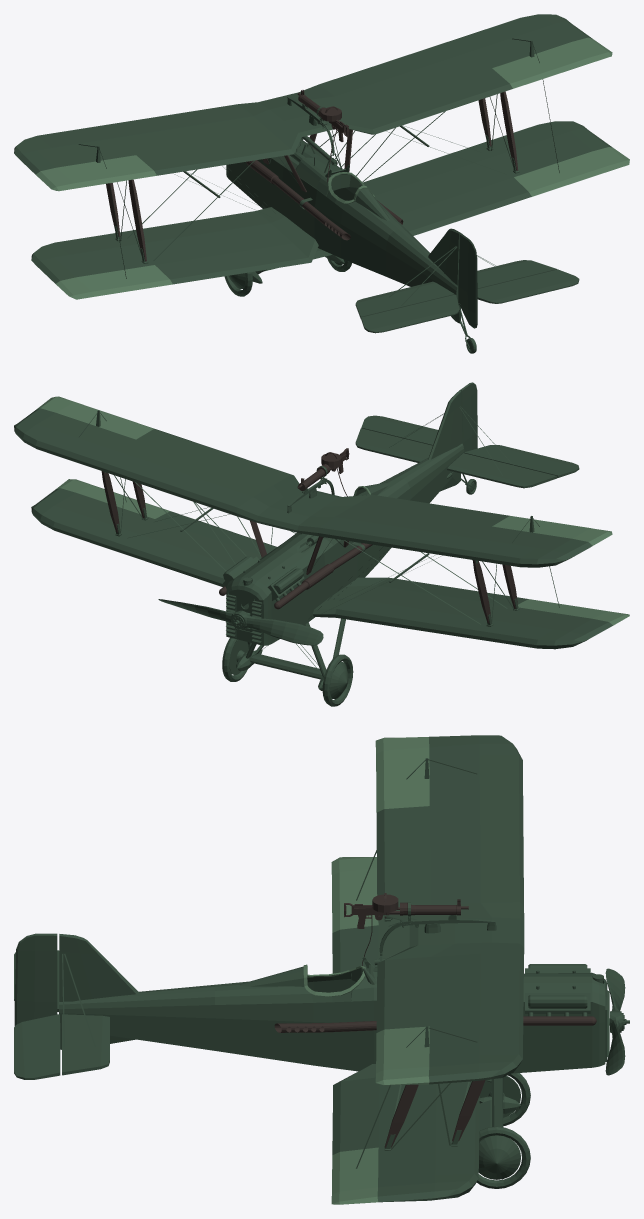
The picture shows the model from 3 angles, top to bottom: view 1: azimuth 30°, elevation 25°; view 2: azimuth 150°, elevation 25°; view 3: azimuth 270°, elevation 25°; orthographic projection. The views are drawn at different scales.
Visible parts, largest first — view 1: SE5.025, lower_wing, SE5.026, SE5.017, SE5.018, wires, wires.001, SE5.029, SE5.023, SE5.001, Cube.007, SE5.005 (+1 smaller); view 2: SE5.025, lower_wing, SE5.026, SE5.023, SE5.017, SE5.018, wires, SE5.020, wires.001, SE5.029, SE5.005, Cube.007 (+2 smaller); view 3: SE5.025, SE5.026, lower_wing, SE5.017, SE5.018, SE5.023, SE5.029, Cube.007, SE5.020, wires.001, wires.
Boxes of the visible parts, bbox=[...] form: SE5.025: bbox=[14, 14, 592, 175]; lower_wing: bbox=[31, 121, 612, 284]; SE5.026: bbox=[226, 137, 579, 333]; SE5.017: bbox=[36, 37, 612, 191]; SE5.018: bbox=[56, 147, 629, 299]; wires: bbox=[78, 38, 559, 278]; wires.001: bbox=[106, 91, 518, 261]; SE5.029: bbox=[458, 233, 477, 328]; SE5.023: bbox=[224, 248, 351, 296]; SE5.001: bbox=[295, 157, 339, 195]; Cube.007: bbox=[297, 90, 349, 182]; SE5.005: bbox=[272, 140, 361, 196]; SE5.025: bbox=[14, 408, 592, 567]; lower_wing: bbox=[31, 488, 612, 649]; SE5.026: bbox=[219, 390, 579, 645]; SE5.023: bbox=[222, 618, 353, 706]; SE5.017: bbox=[36, 396, 612, 545]; SE5.018: bbox=[56, 479, 629, 625]; wires: bbox=[79, 410, 559, 626]; SE5.020: bbox=[158, 599, 323, 645]; wires.001: bbox=[101, 471, 517, 623]; SE5.029: bbox=[460, 382, 477, 451]; SE5.005: bbox=[267, 532, 340, 564]; Cube.007: bbox=[297, 448, 349, 496]; SE5.025: bbox=[376, 735, 524, 1084]; SE5.026: bbox=[14, 934, 607, 1079]; lower_wing: bbox=[332, 916, 479, 1202]; SE5.017: bbox=[375, 737, 429, 1085]; SE5.018: bbox=[331, 857, 378, 1204]; SE5.023: bbox=[476, 1073, 530, 1188]; SE5.029: bbox=[14, 933, 57, 1026]; Cube.007: bbox=[344, 893, 468, 965]; SE5.020: bbox=[605, 968, 625, 1075]; wires.001: bbox=[384, 916, 485, 1147]; wires: bbox=[356, 758, 477, 1168].
Bounding box in the file's own units: 8.89 × 3.17 × 6.66.
